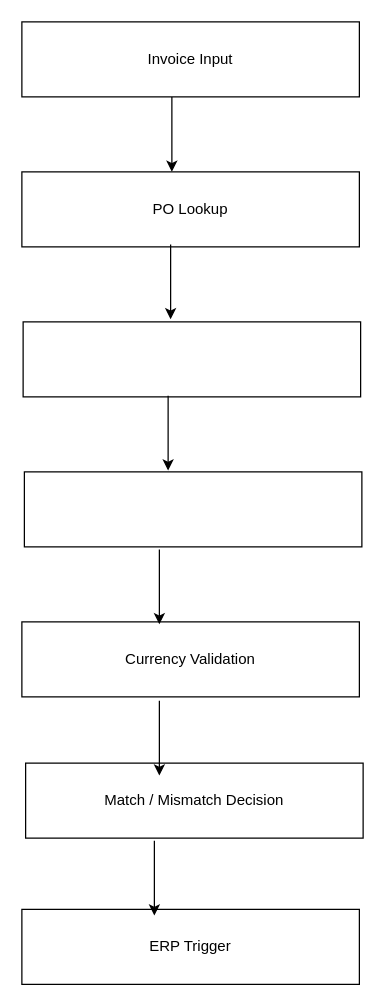
Image size: 385x1006. Some labels were removed from this diagram. The shapes that lost their labels are listed below. From the top down, each one's box as (x1, y1, x2, y2) in pixels, then its label:
(22, 321, 361, 397): Vendor Similarity Check
(23, 471, 362, 547): Amount Validation
